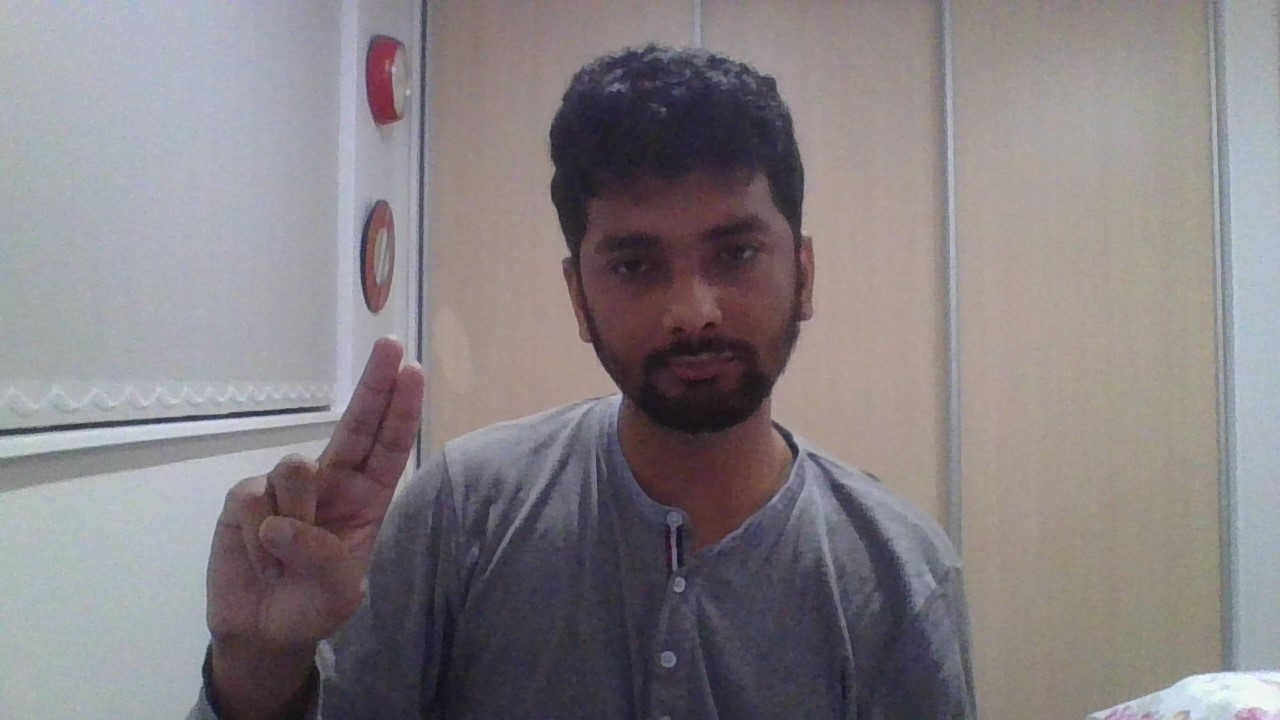peace: (204, 337, 425, 643)
